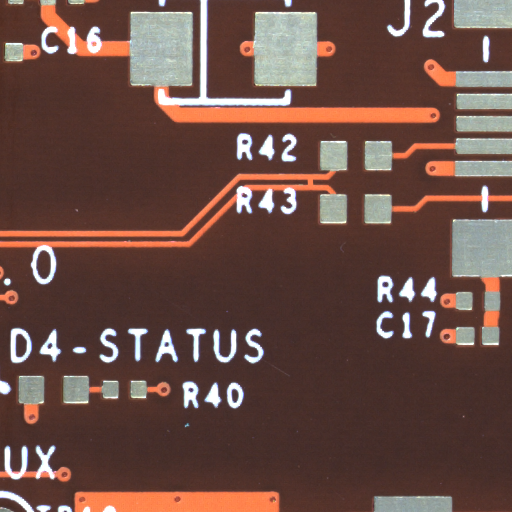Short: (310, 181, 319, 189)
